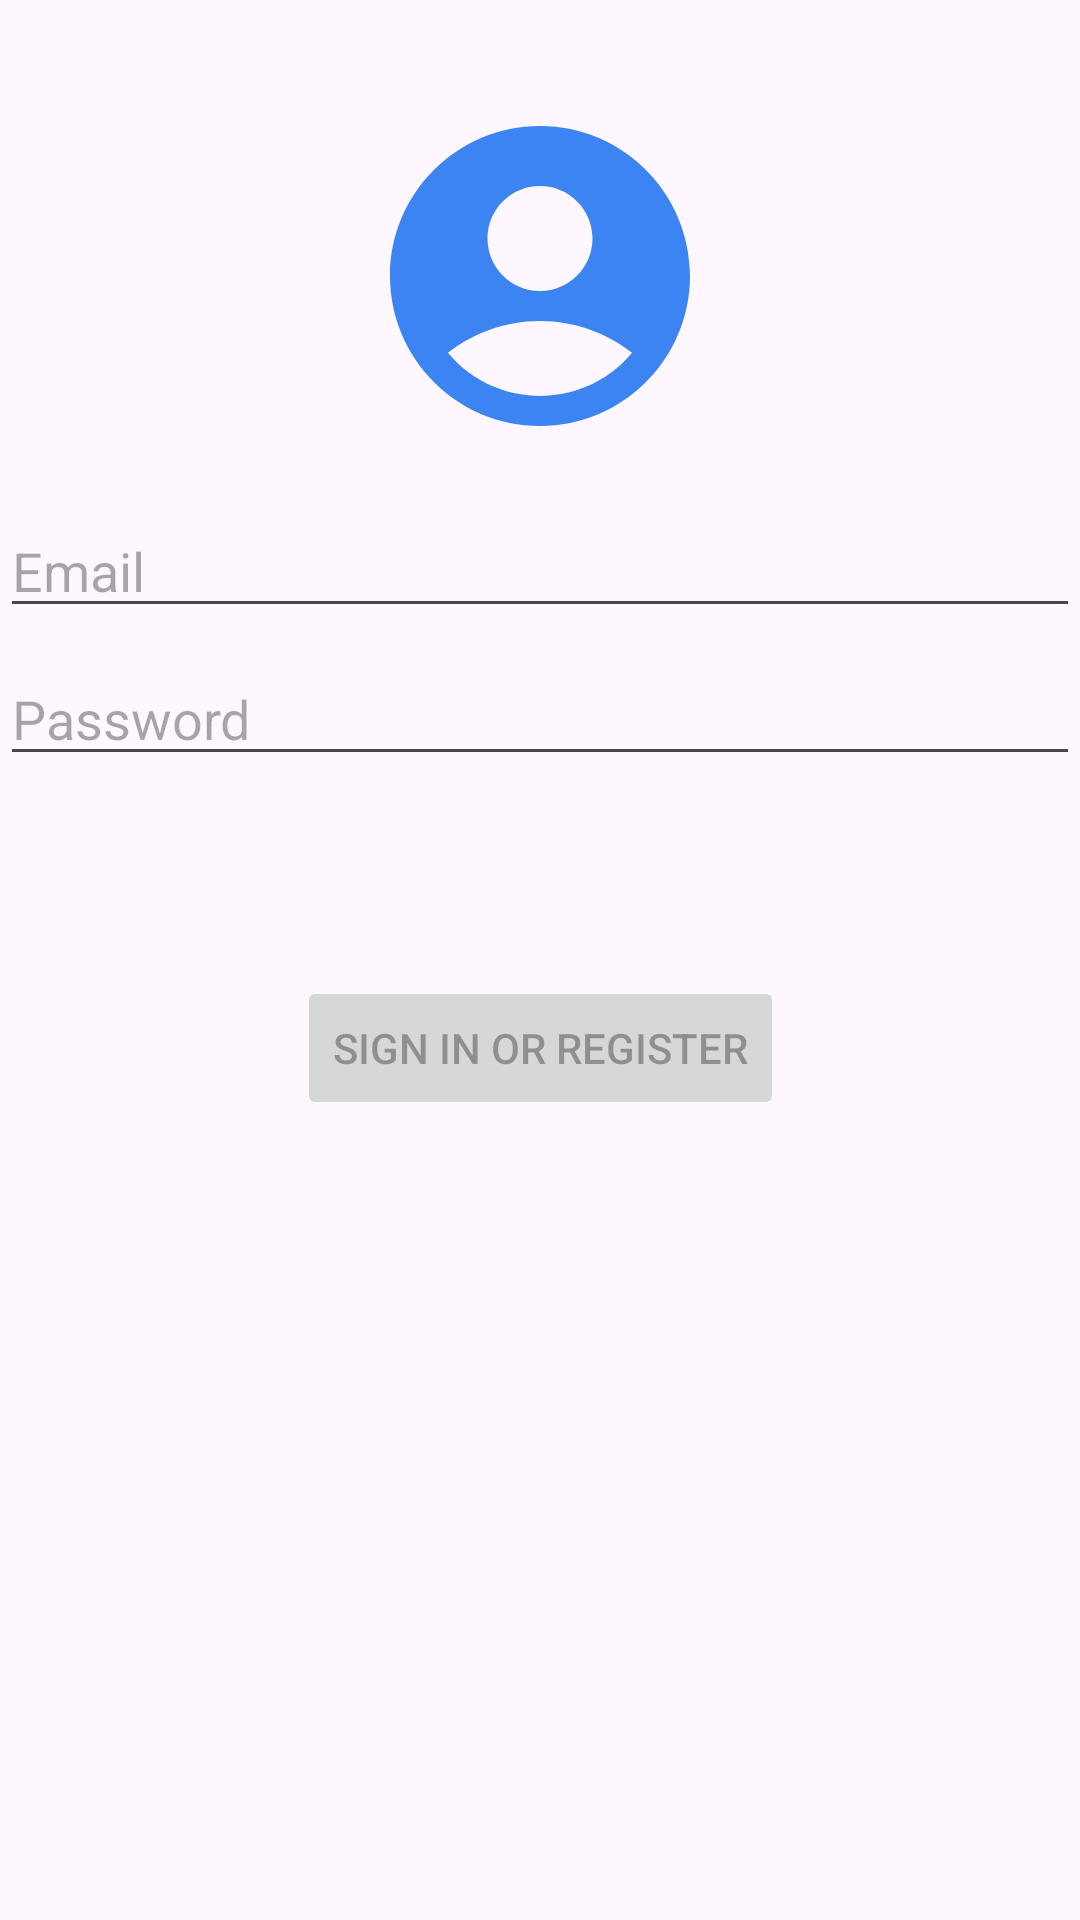

Screen size 1080 × 1920. Icon name, then its center in pixels as (x,y):
account circle: (540,276)
